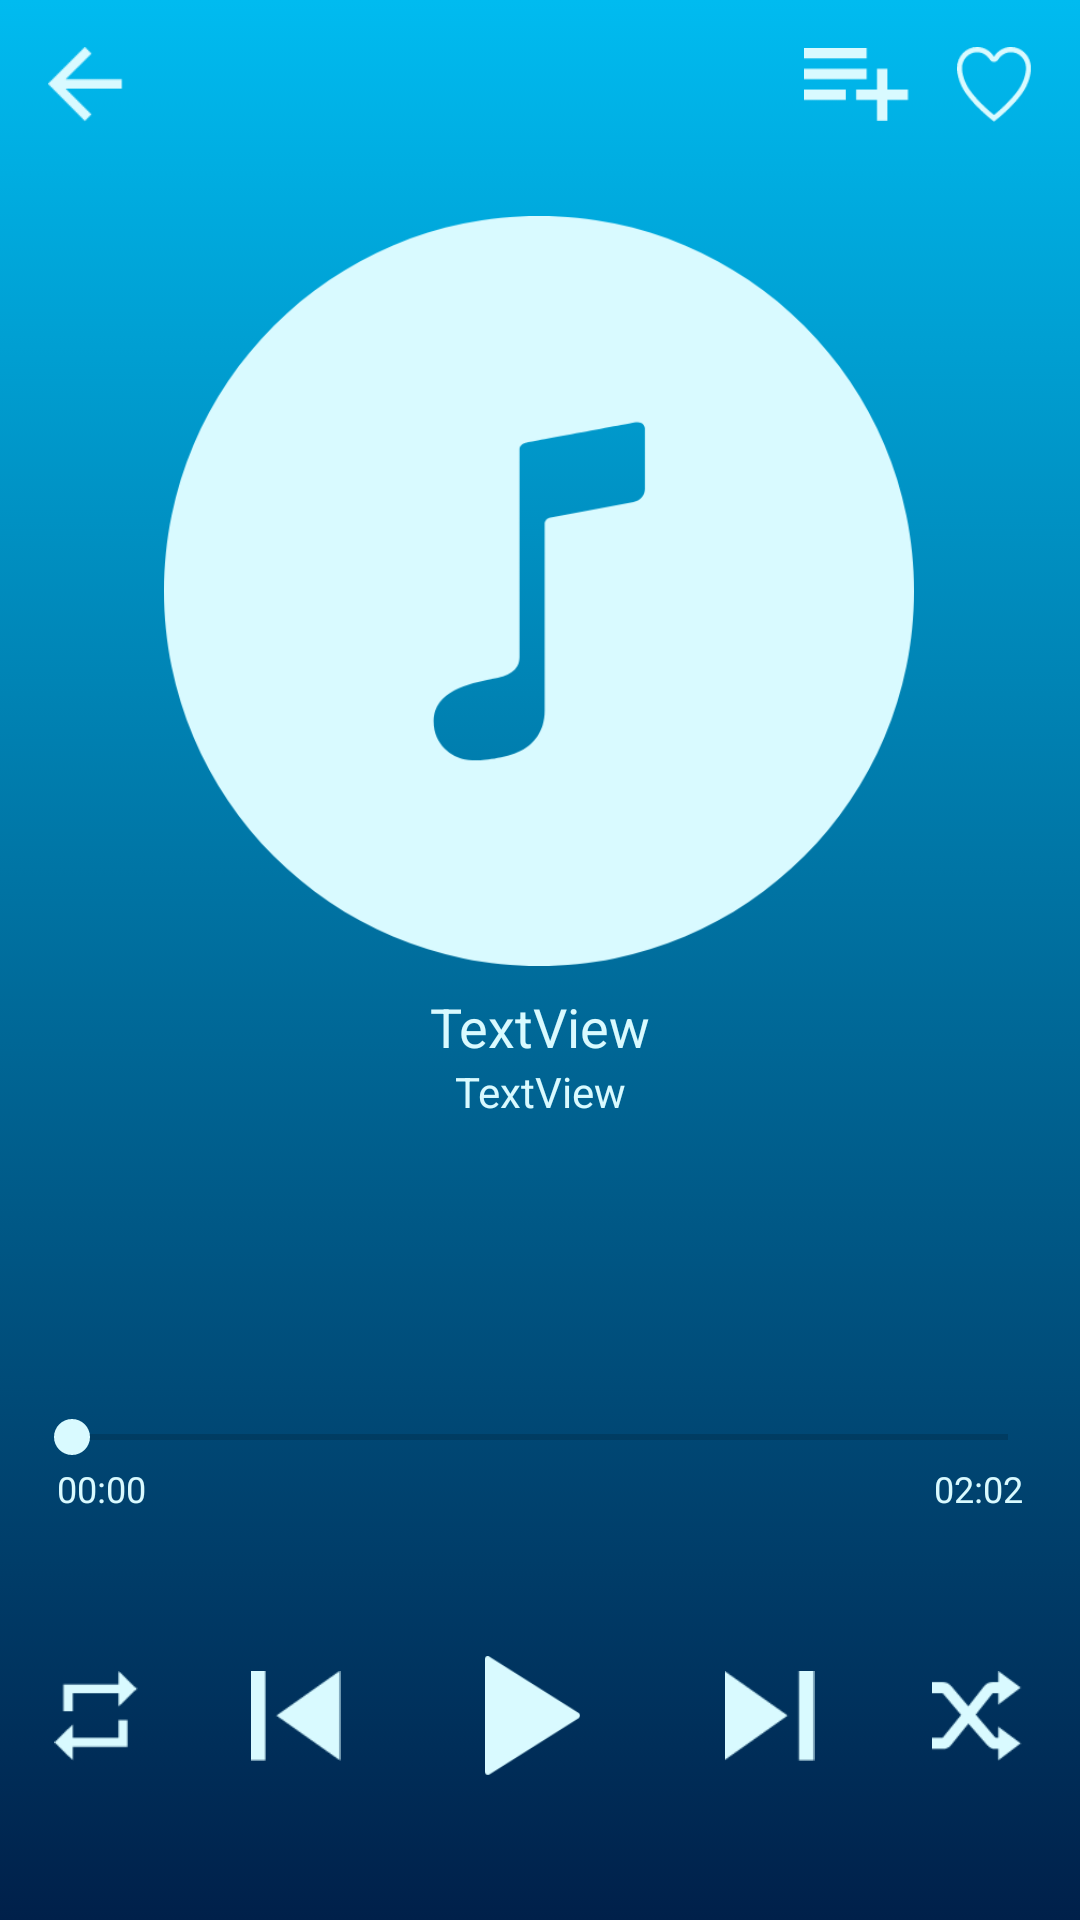

Icon bounding boxes for this 1080*1920 phone screenshot, format (x1, y1, x2, y2):
pbe add: (804, 48, 909, 121)
pbe back: (48, 47, 123, 121)
pbe backmusic: (251, 1671, 341, 1761)
pbe nextmusic: (725, 1671, 815, 1761)
pbe nofav: (957, 47, 1031, 122)
pbe playbutton: (485, 1656, 580, 1775)
pbe random: (932, 1671, 1021, 1761)
pbe repeat: (54, 1671, 138, 1760)
